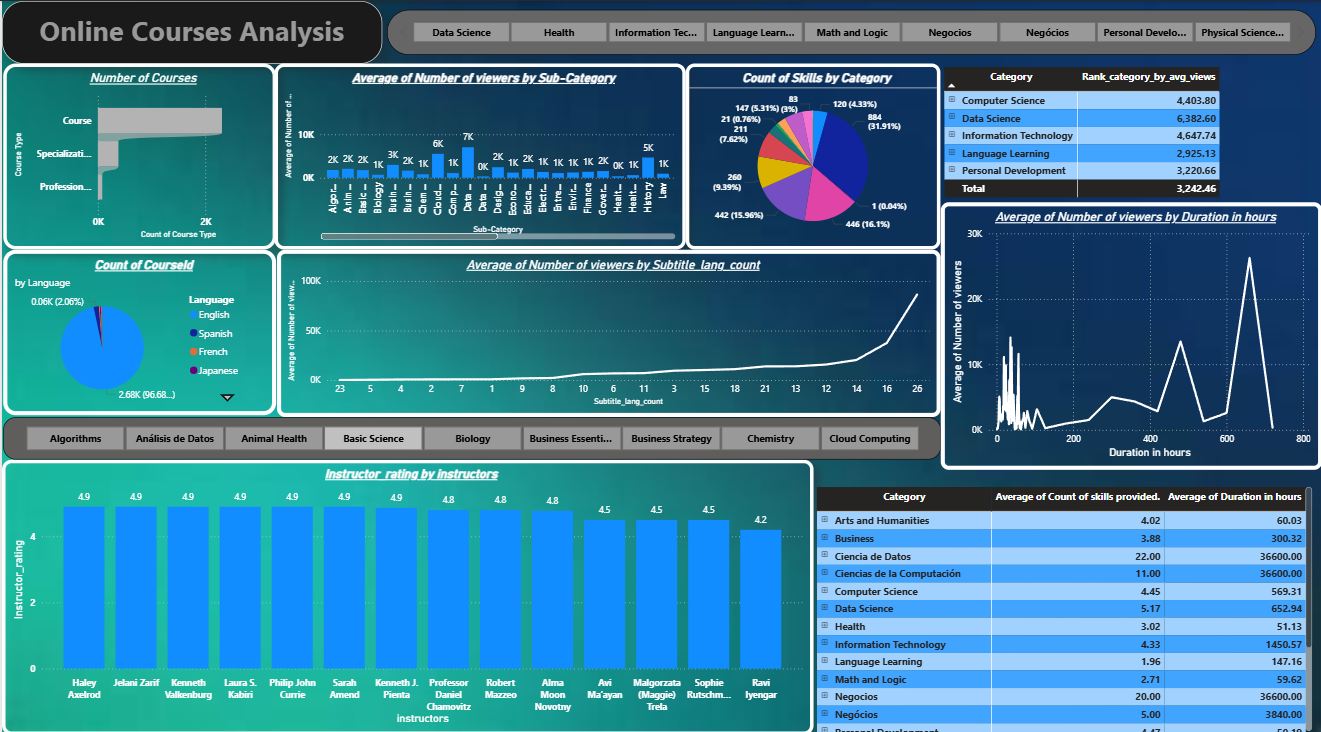

What the dashboard file says about the page in this screenshot:
{"tool":"powerbi","page":{"name":"Page 1","canvas":[1800,1000],"ordinal":0},"visuals":[{"type":"textbox","box":[0,0,518.1,85.2],"z":0},{"type":"barChart","title":"Number of Courses","fields":{"Category":["Online_Courses.Course Type"],"Y":["Online_Courses.Course Type"]},"box":[1.2,84.7,371.8,254],"z":1000},{"type":"slicer","fields":{"Values":["Online_Courses.Category"]},"box":[524.9,11.9,1266.2,61.4],"z":2000},{"type":"columnChart","fields":{"Category":["Online_Courses.Sub-Category","Online_Courses.Language"],"Y":["Online_Courses.Number of viewers"]},"box":[371.8,85.9,560.7,254],"z":3000},{"type":"pieChart","fields":{"Y":["Online_Courses.Skills"],"Series":["Online_Courses.Category"]},"box":[932.5,84.7,347.2,254],"z":4000},{"type":"pieChart","fields":{"Category":["Online_Courses.Language"],"Y":["Online_Courses.CourseId"]},"box":[2.5,339.9,371.8,225.8],"z":5000},{"type":"pivotTable","fields":{"Rows":["Online_Courses.Category","Online_Courses.Language"],"Values":["Online_Courses.Rank_category_by_avg_views"]},"box":[1279.8,85.2,392,189.2],"z":6000},{"type":"lineChart","fields":{"Category":["Online_Courses.Subtitle_lang_count"],"Y":["Online_Courses.Number of viewers"]},"box":[374.9,339.1,904.9,228.4],"z":7000},{"type":"columnChart","fields":{"Category":["teachers.instructors"],"Y":["teachers.Instructor_rating"]},"box":[0,625.4,1106,374.9],"z":8000},{"type":"slicer","fields":{"Values":["teachers.Sub-Category"]},"box":[1.7,567.5,1278.1,57.9],"z":9000},{"type":"lineChart","fields":{"Category":["Online_Courses.Duration in hours"],"Y":["Online_Courses.Number of viewers"]},"box":[1279.8,274.4,519.8,364.7],"z":10000},{"type":"pivotTable","fields":{"Rows":["Online_Courses.Category","Online_Courses.Sub-Category"],"Values":["Online_Courses.Count of skills provided.","Online_Courses.Duration in hours"]},"box":[1106,657.8,685.1,342.5],"z":11000}]}

Visuals, with their boxes in screenshot pixels (x1, y1, x2, y2), scaled from the page's 1800x1000 canvas onto the 1321x732 screenshot:
textbox: (left=0, top=0, right=380, bottom=62)
"Number of Courses" barChart: (left=1, top=62, right=274, bottom=248)
slicer - Online_Courses.Category: (left=385, top=9, right=1314, bottom=54)
columnChart - Online_Courses.Sub-Category x Online_Courses.Language: (left=273, top=63, right=684, bottom=249)
pieChart - Online_Courses.Skills x Online_Courses.Category: (left=684, top=62, right=939, bottom=248)
pieChart - Online_Courses.Language x Online_Courses.CourseId: (left=2, top=249, right=275, bottom=414)
pivotTable - Online_Courses.Category x Online_Courses.Language: (left=939, top=62, right=1227, bottom=201)
lineChart - Online_Courses.Subtitle_lang_count x Online_Courses.Number of viewers: (left=275, top=248, right=939, bottom=415)
columnChart - teachers.instructors x teachers.Instructor_rating: (left=0, top=458, right=812, bottom=731)
slicer - teachers.Sub-Category: (left=1, top=415, right=939, bottom=458)
lineChart - Online_Courses.Duration in hours x Online_Courses.Number of viewers: (left=939, top=201, right=1320, bottom=468)
pivotTable - Online_Courses.Category x Online_Courses.Sub-Category: (left=812, top=482, right=1314, bottom=731)
